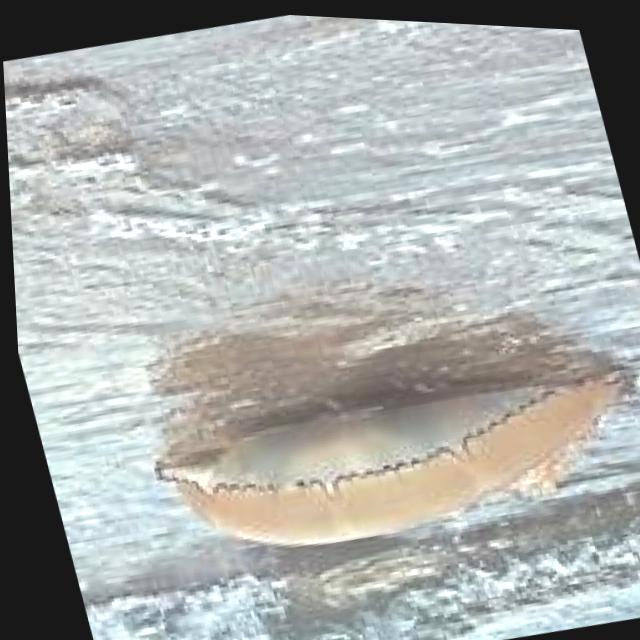Box-jellyfish: (133, 334, 640, 593)
